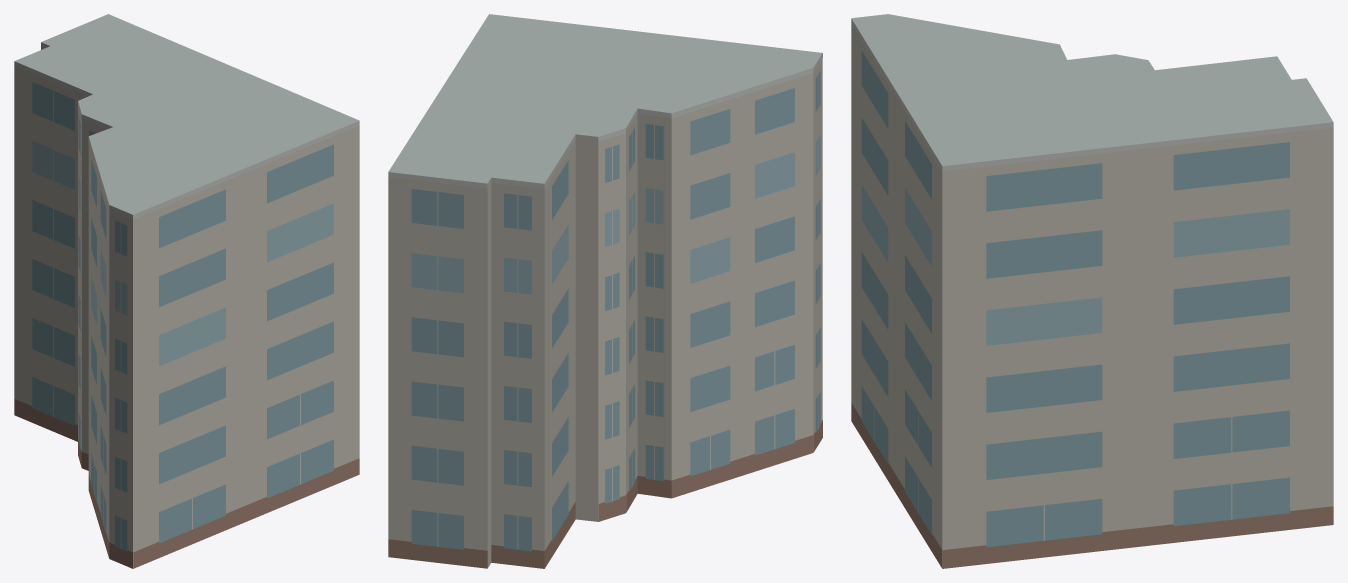
The model's file is survey-upis-32729326.glb.
3 renders of one model, left to right at view 1: azimuth 30°, elevation 25°; view 2: azimuth 150°, elevation 25°; view 3: azimuth 270°, elevation 25°, orthographic. The views are drawn at different scales.
Parts seen in each view (by area): view 1: survey-upis-32729326.tmp; view 2: survey-upis-32729326.tmp; view 3: survey-upis-32729326.tmp.
Boxes of the visible parts, x1=… form: survey-upis-32729326.tmp: x1=14, y1=14, x2=359, y2=568; survey-upis-32729326.tmp: x1=388, y1=14, x2=822, y2=568; survey-upis-32729326.tmp: x1=851, y1=14, x2=1333, y2=568.
Bounding box in the file's own units: 14.97 × 18.45 × 20.04.
